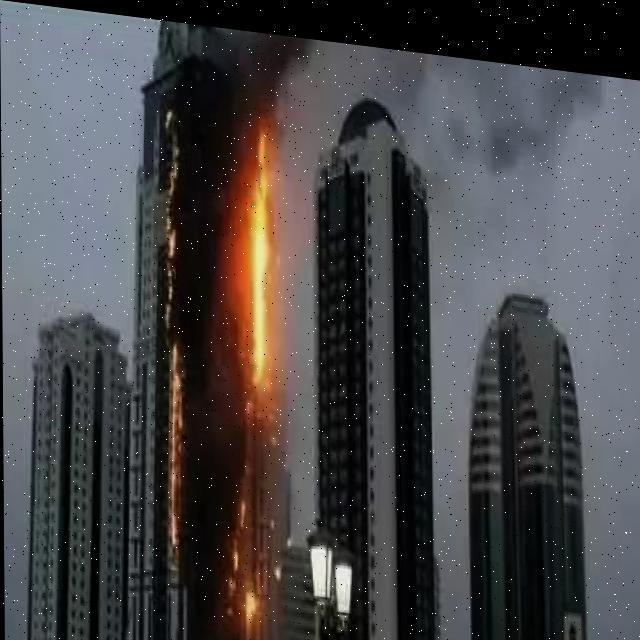Fire: (242, 110, 276, 414), (164, 154, 190, 546), (227, 488, 256, 626)
